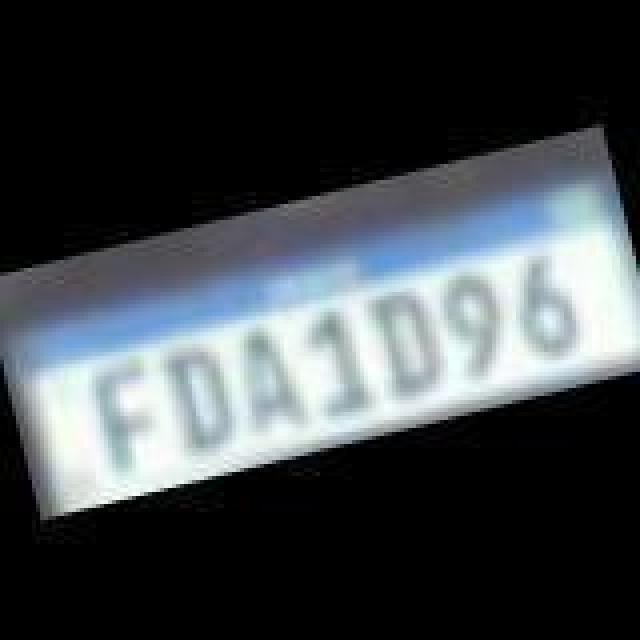1: (290, 296, 382, 424)
6: (504, 242, 592, 366)
9: (432, 260, 520, 388)
A: (220, 312, 316, 440)
D: (362, 274, 454, 406), (154, 334, 246, 458)
F: (80, 354, 168, 478)
